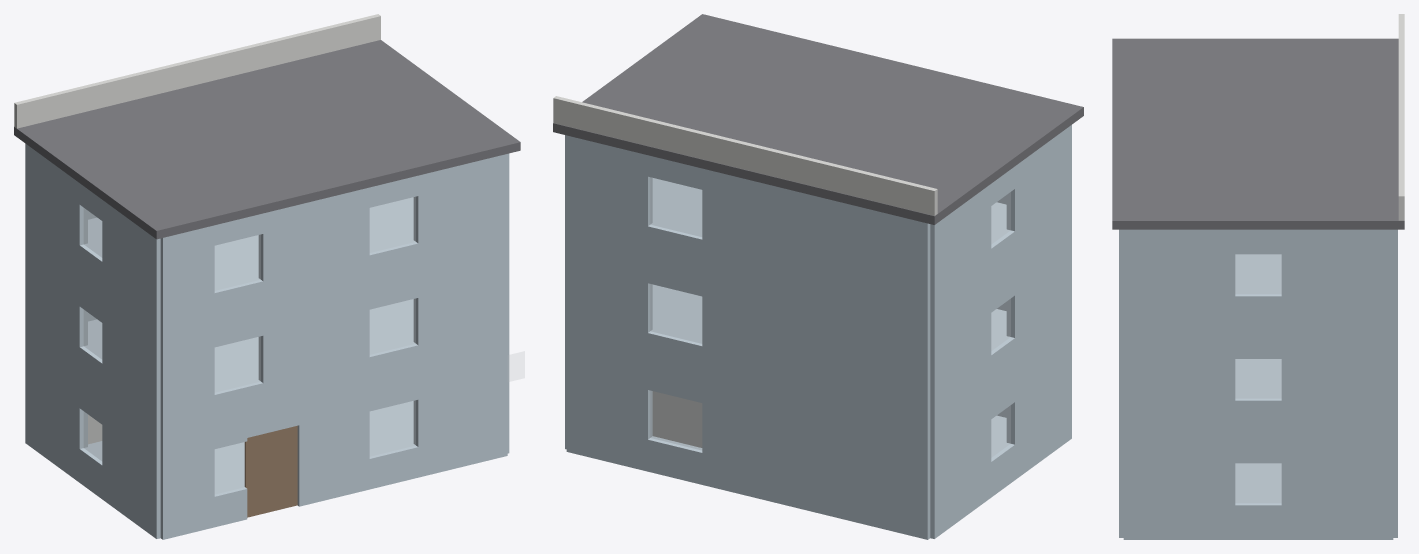
Rendered from shell_04.glb.
3 views of the same model, side by side, from view 1: azimuth 30°, elevation 25°; view 2: azimuth 150°, elevation 25°; view 3: azimuth 270°, elevation 25° (orthographic). The views are drawn at different scales.
Parts seen in each view (by area): view 1: Wall_Front, Roof, Wall_Left, RoofRail, Floor_2, Floor_1, Door_Front, Floor_0, Glass_Front_2, Glass_Front_3, Glass_Front_6, Glass_Front_4 (+6 smaller); view 2: Wall_Back, Roof, Wall_Left, RoofRail, Floor_2, Floor_1, Glass_Back_2, Glass_Back_1, Glass_Back_3, Interior_Wall, Glass_Left_3, Glass_Left_1 (+2 smaller); view 3: Wall_Right, Roof, Glass_Right_1, Glass_Right_2, Glass_Right_3, Floor_0, Floor_1, Floor_2, Wall_Front, Wall_Back, RoofRail.
Boxes of the visible parts, x1,y1,x2,y2 form: Wall_Front: [160, 154, 507, 539]; Roof: [14, 40, 520, 239]; Wall_Left: [25, 143, 160, 538]; RoofRail: [14, 14, 380, 128]; Floor_2: [88, 197, 413, 288]; Floor_1: [88, 299, 413, 390]; Door_Front: [244, 425, 297, 517]; Floor_0: [88, 401, 413, 491]; Glass_Front_2: [370, 400, 415, 456]; Glass_Front_3: [215, 336, 260, 392]; Glass_Front_6: [370, 197, 415, 252]; Glass_Front_4: [370, 299, 415, 354]; Wall_Back: [566, 135, 930, 539]; Roof: [553, 14, 1083, 224]; Wall_Left: [930, 125, 1071, 538]; RoofRail: [553, 96, 937, 215]; Floor_2: [652, 178, 1006, 239]; Floor_1: [652, 284, 1006, 346]; Glass_Back_2: [650, 284, 701, 343]; Glass_Back_1: [650, 391, 701, 449]; Glass_Back_3: [650, 178, 701, 236]; Interior_Wall: [652, 391, 702, 447]; Glass_Left_3: [991, 192, 1010, 243]; Glass_Left_1: [991, 405, 1010, 456]; Wall_Right: [1123, 229, 1393, 539]; Roof: [1112, 38, 1404, 229]; Glass_Right_1: [1235, 463, 1281, 502]; Glass_Right_2: [1235, 359, 1281, 398]; Glass_Right_3: [1235, 254, 1281, 293]; Floor_0: [1235, 463, 1281, 500]; Floor_1: [1235, 359, 1281, 396]; Floor_2: [1235, 254, 1281, 291]; Wall_Front: [1119, 229, 1123, 537]; Wall_Back: [1393, 229, 1397, 537]; RoofRail: [1398, 14, 1404, 220].
Bounding box in the file's own units: 11.53 × 9.95 × 7.61.
